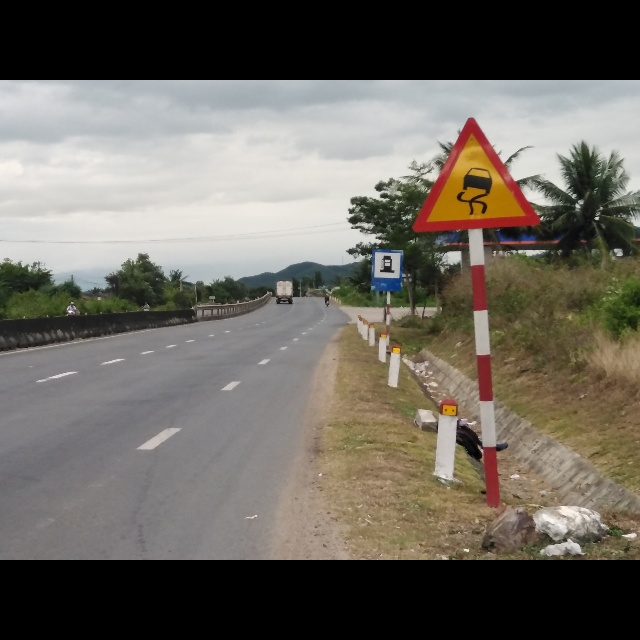Đường trơn trượt: (407, 116, 534, 234)
